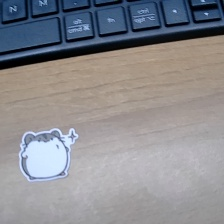mouse: (17, 128, 81, 182)
